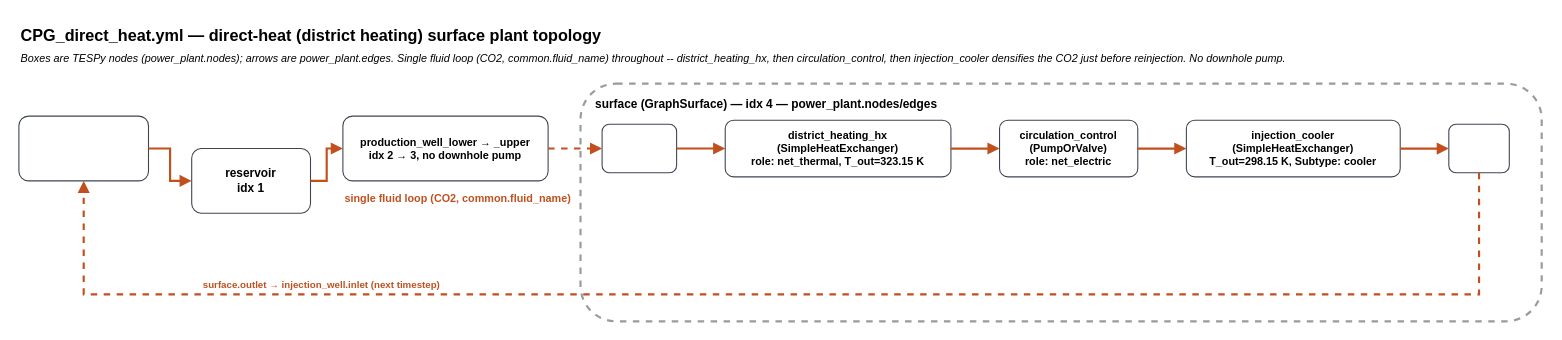
This 1562x340 diagram has some shape labels left out. Each missing label, with the centre of its shape:
"injection_well component_idx 0" belongs at point (83, 148).
"inlet (Source)" belongs at point (639, 148).
"outlet (Sink)" belongs at point (1478, 148).
